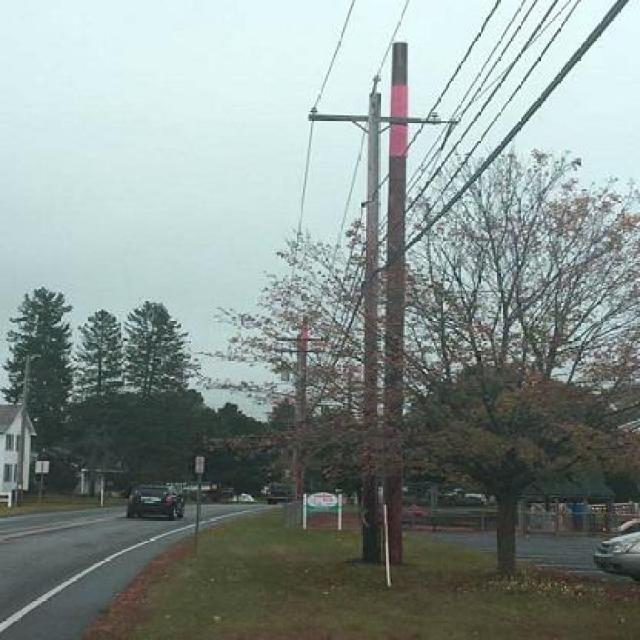pole: (303, 82, 397, 560)
